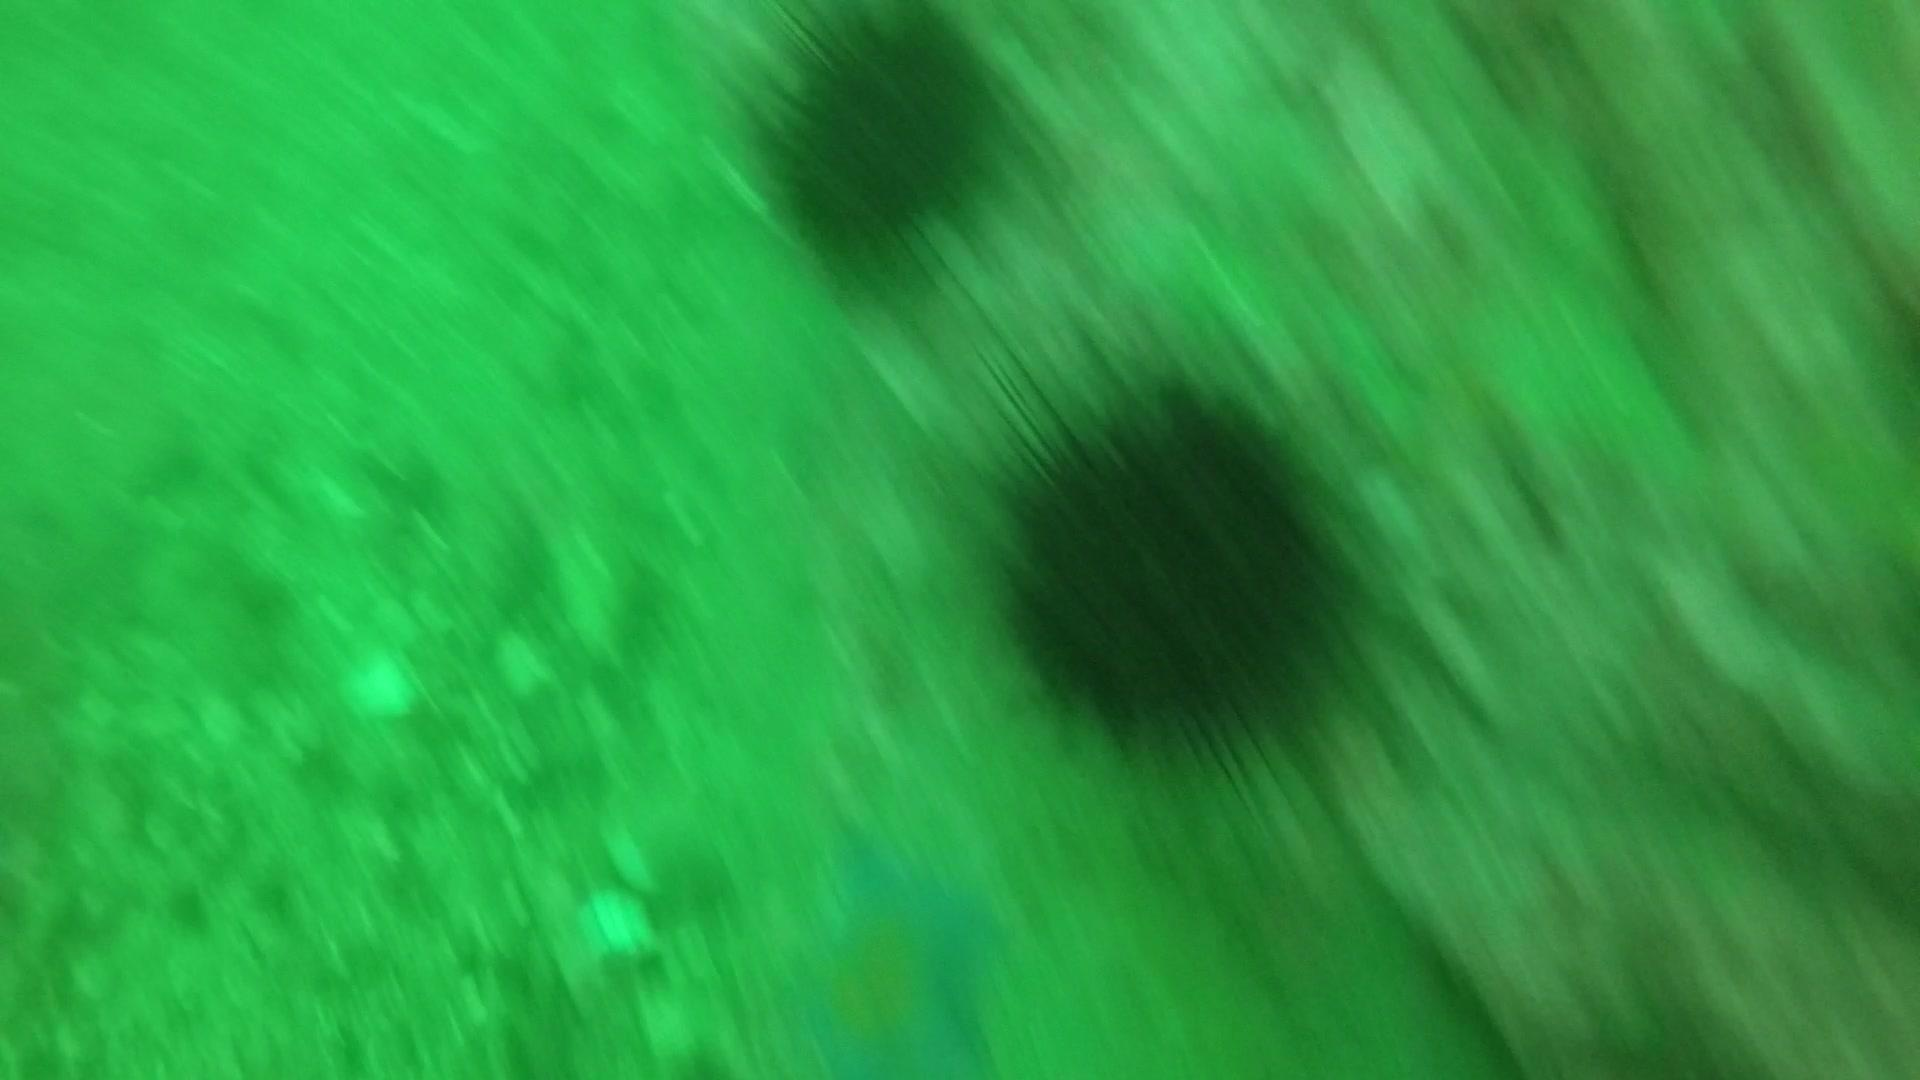echinus: (982, 367, 1366, 777), (746, 7, 1019, 285)
starfish: (777, 827, 1014, 1080)
